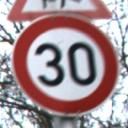speed_limit_30: (10, 12, 120, 117)
